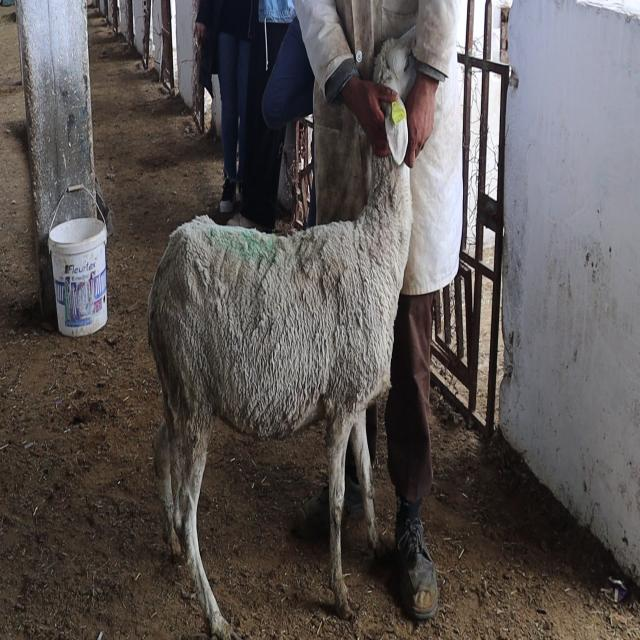Score_1: (148, 27, 419, 639)
